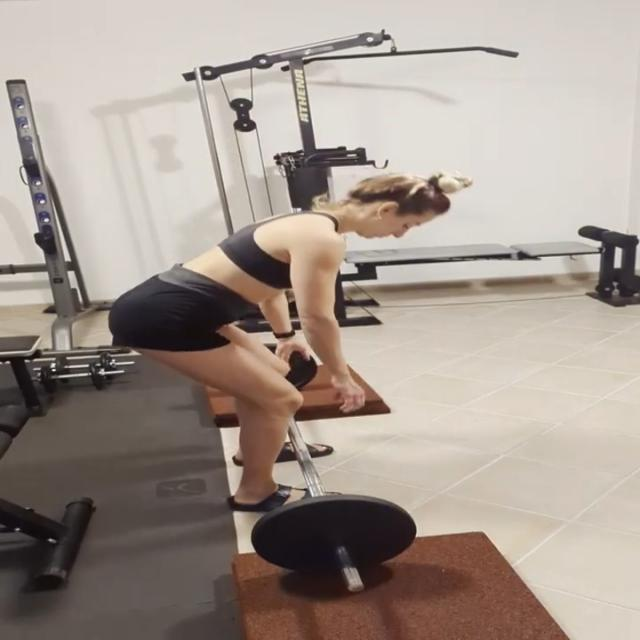barbell: (248, 491, 425, 599)
